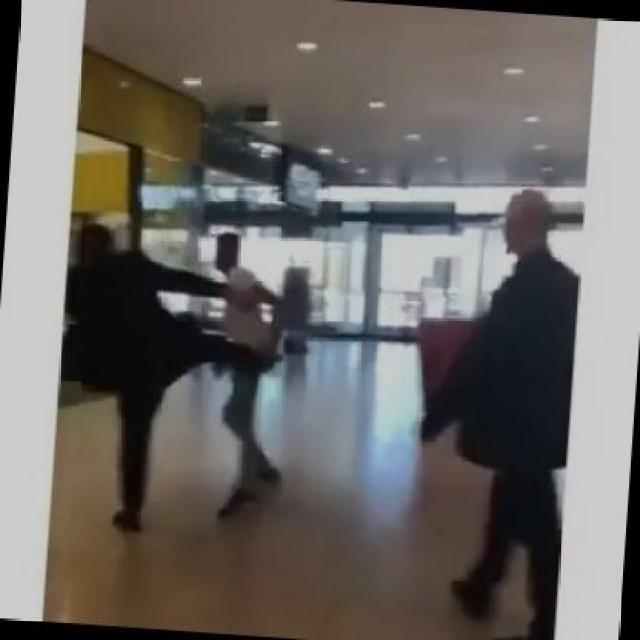fight: (63, 203, 287, 542)
non-fight: (414, 181, 582, 640)
